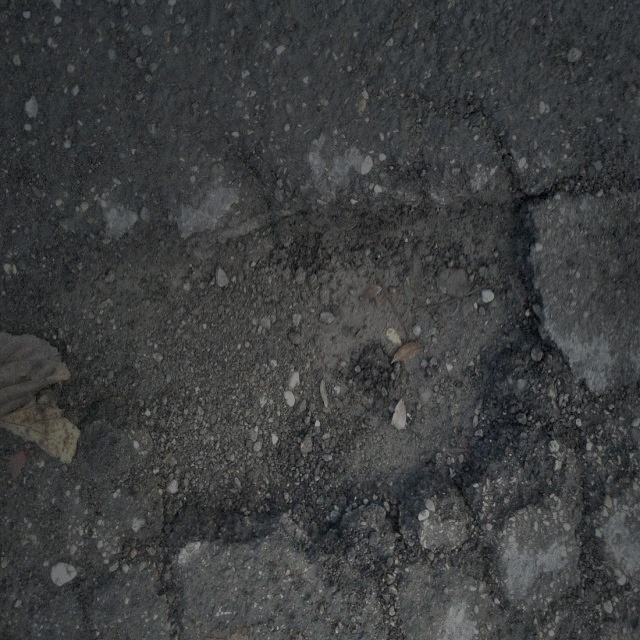pothole: (149, 160, 543, 571)
